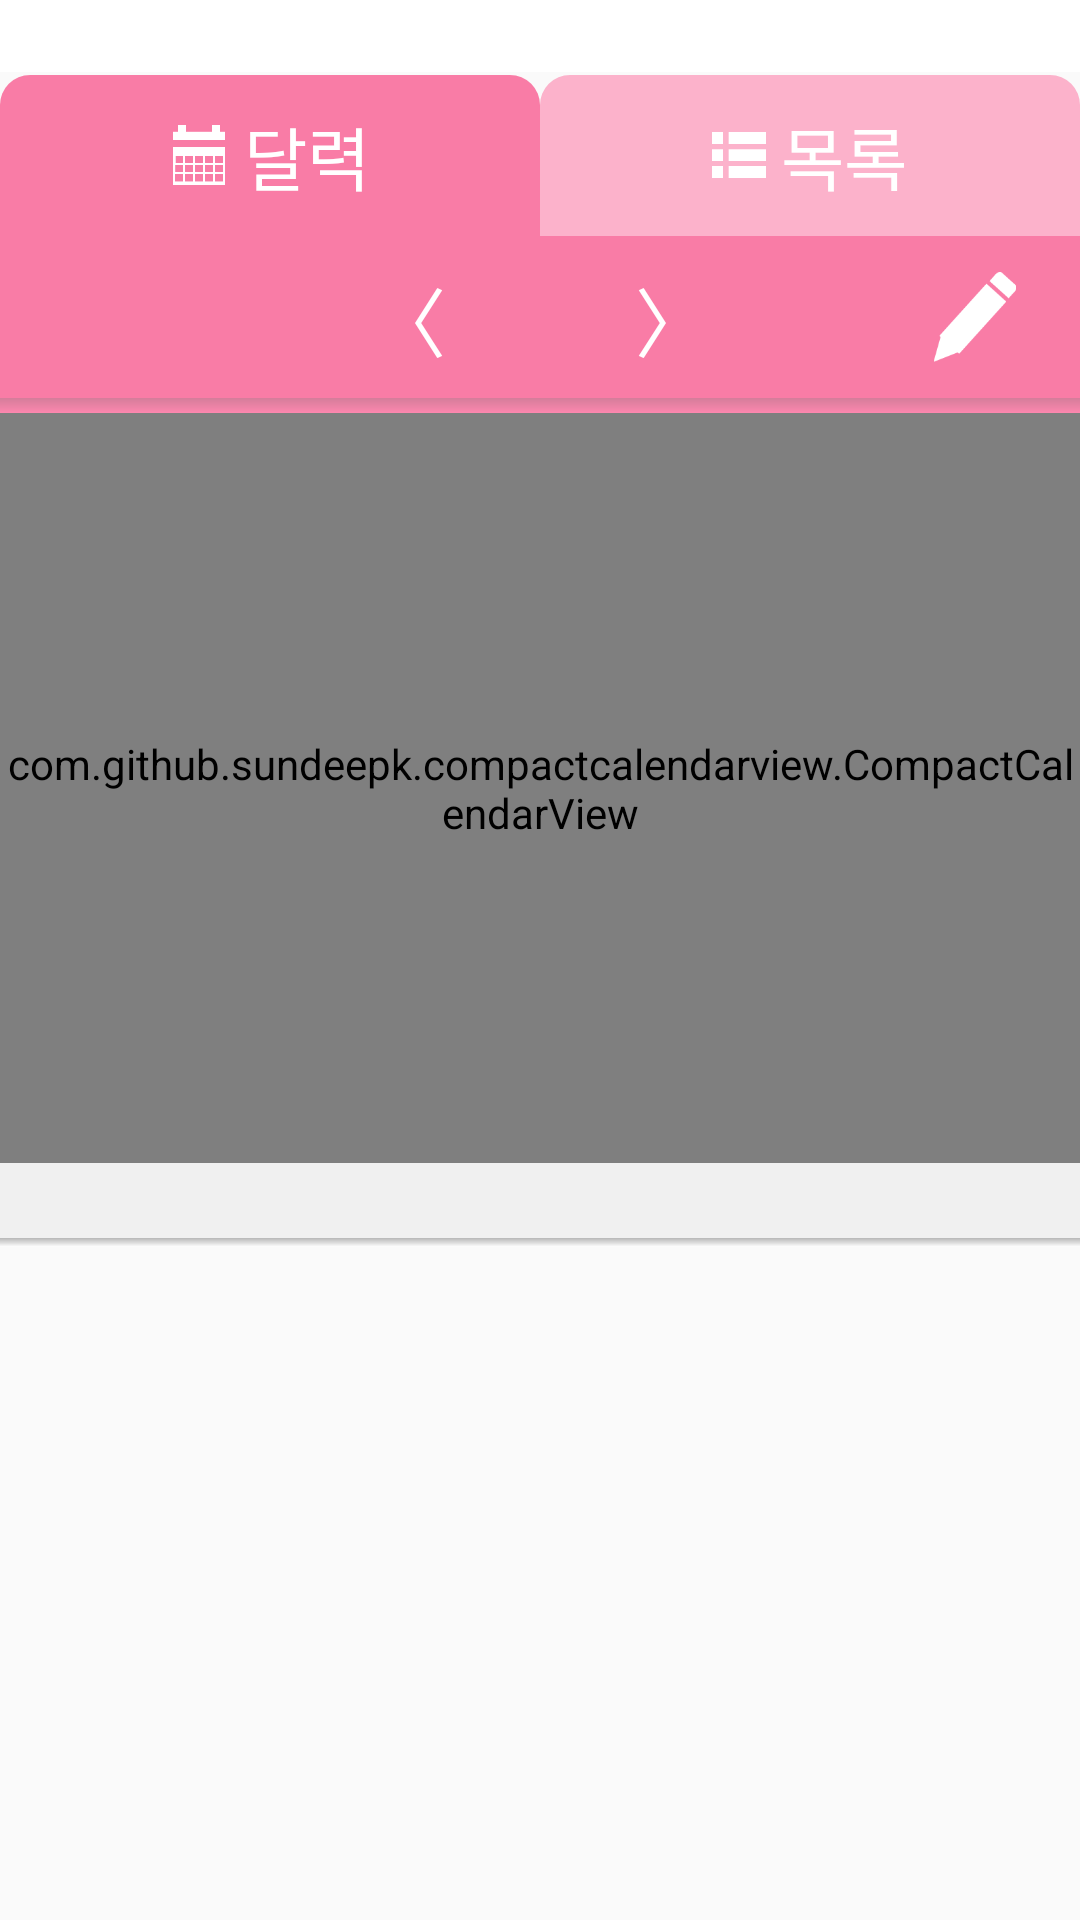

Icon bounding boxes for this 1080*1920 phone screenshot, format box=[x1, y1, x2, y2]:
calendar: box=[173, 125, 225, 185]
list: box=[712, 132, 766, 178]
write: box=[934, 272, 1016, 362]
